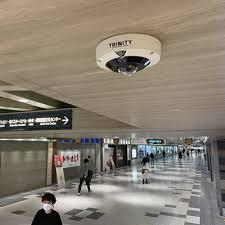maru: (90, 30, 167, 81)
